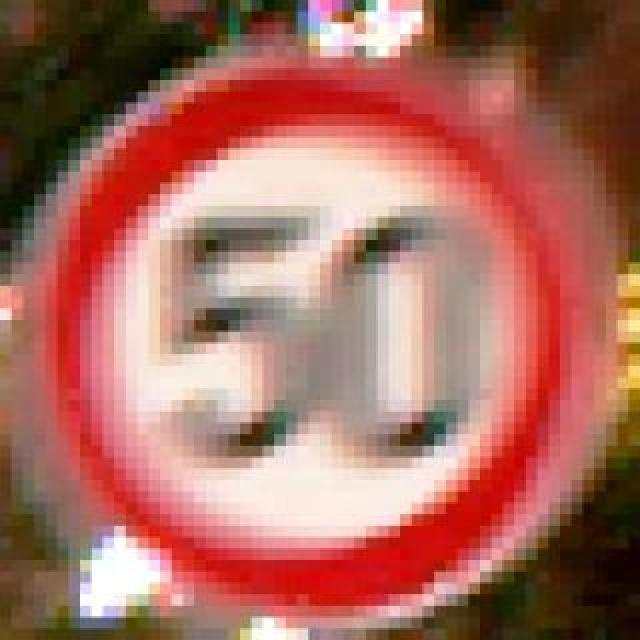50 kph: (24, 46, 584, 630)
